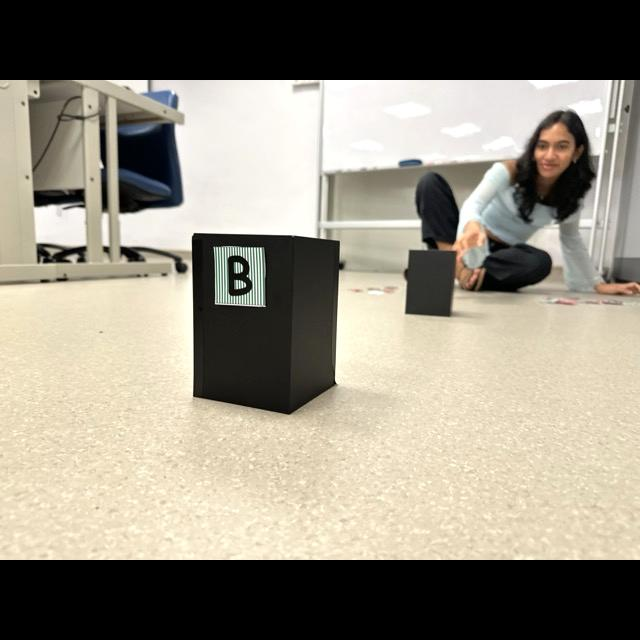B: (228, 255, 252, 296)
